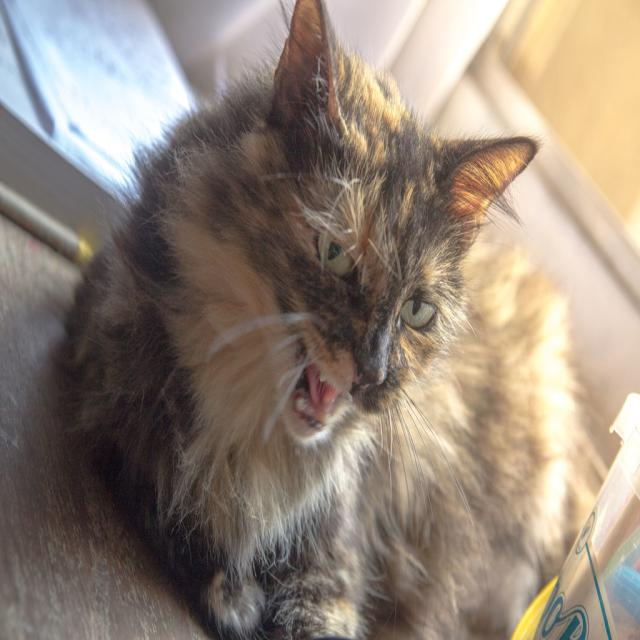Cat: (42, 0, 594, 639)
